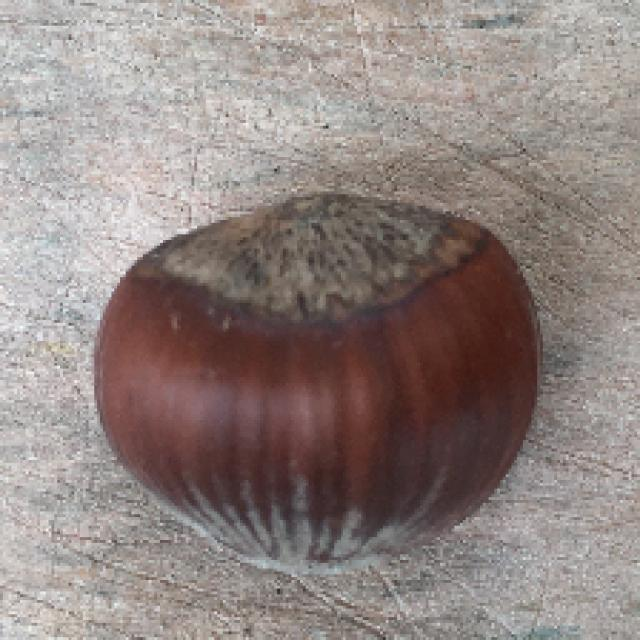damagedHazelnut: (86, 188, 544, 578)
